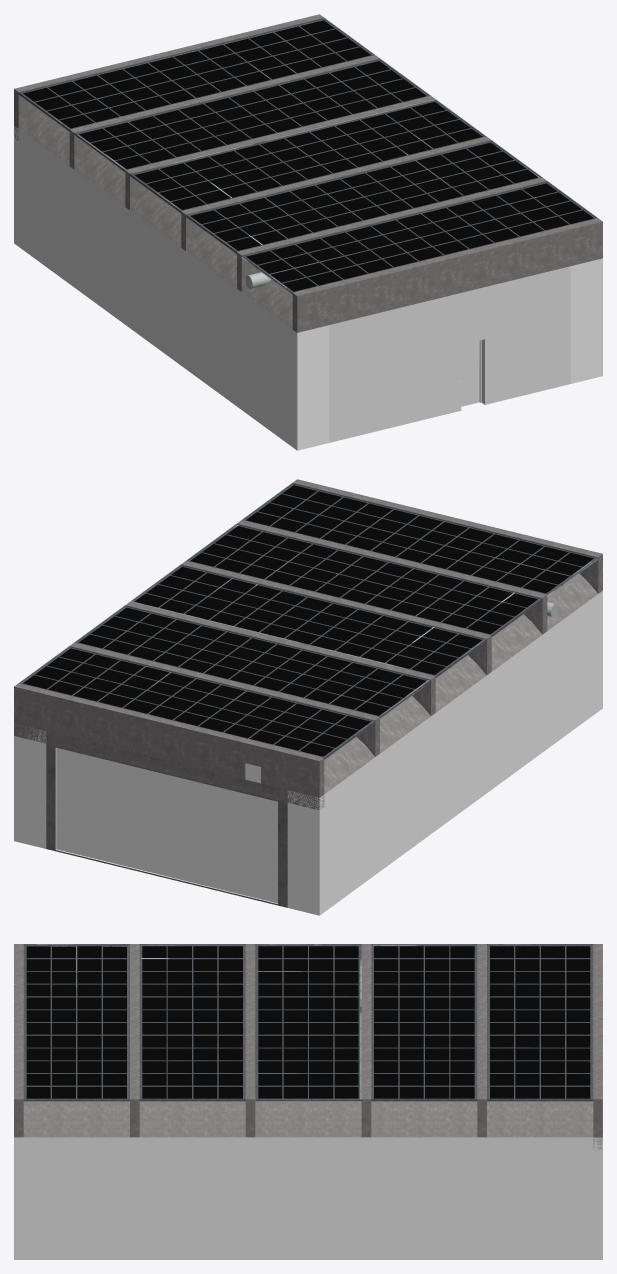
Rendered from vr_gallery_with_curved_concrete_ceiling.glb.
The picture shows the model from 3 angles, top to bottom: view 1: azimuth 30°, elevation 25°; view 2: azimuth 150°, elevation 25°; view 3: azimuth 270°, elevation 25°; orthographic projection. The views are drawn at different scales.
Parts seen in each view (by area): view 1: VR Gallery - Curved.001_Baked_VR Gallery - Curved.001_baked_; view 2: VR Gallery - Curved.001_Baked_VR Gallery - Curved.001_baked_; view 3: VR Gallery - Curved.001_Baked_VR Gallery - Curved.001_baked_.
Part boxes in pixels (<box>): VR Gallery - Curved.001_Baked_VR Gallery - Curved.001_baked_: <box>14,14,602,450</box>; VR Gallery - Curved.001_Baked_VR Gallery - Curved.001_baked_: <box>14,479,602,915</box>; VR Gallery - Curved.001_Baked_VR Gallery - Curved.001_baked_: <box>14,944,602,1259</box>.
Bounding box in the file's own units: 1368 × 661 × 2196.
Materials: 1 (1 with a texture image).
